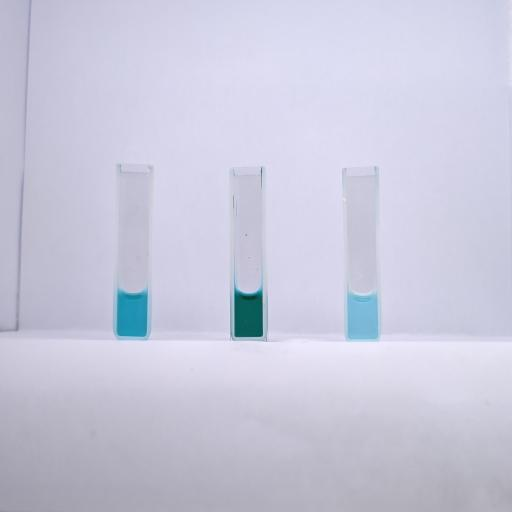cuvette: (340, 164, 385, 343), (112, 162, 155, 344), (227, 165, 270, 342)
liquid: (118, 288, 148, 337), (349, 292, 377, 338), (236, 288, 262, 336)
